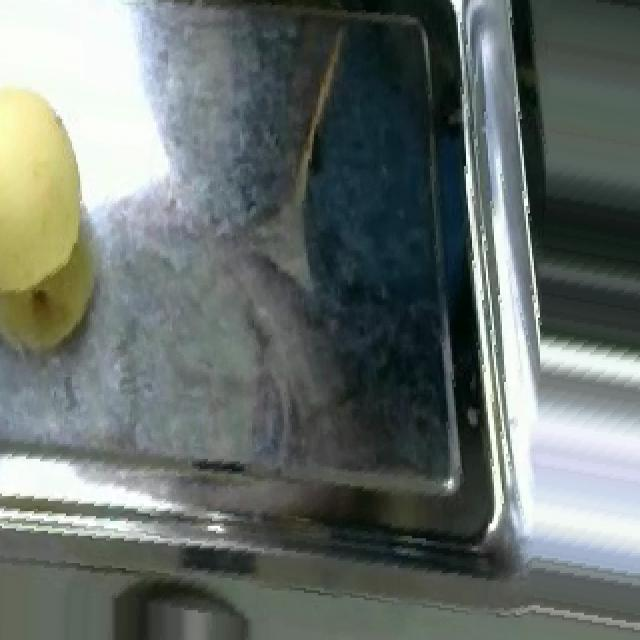Fruit: (0, 62, 106, 315)
